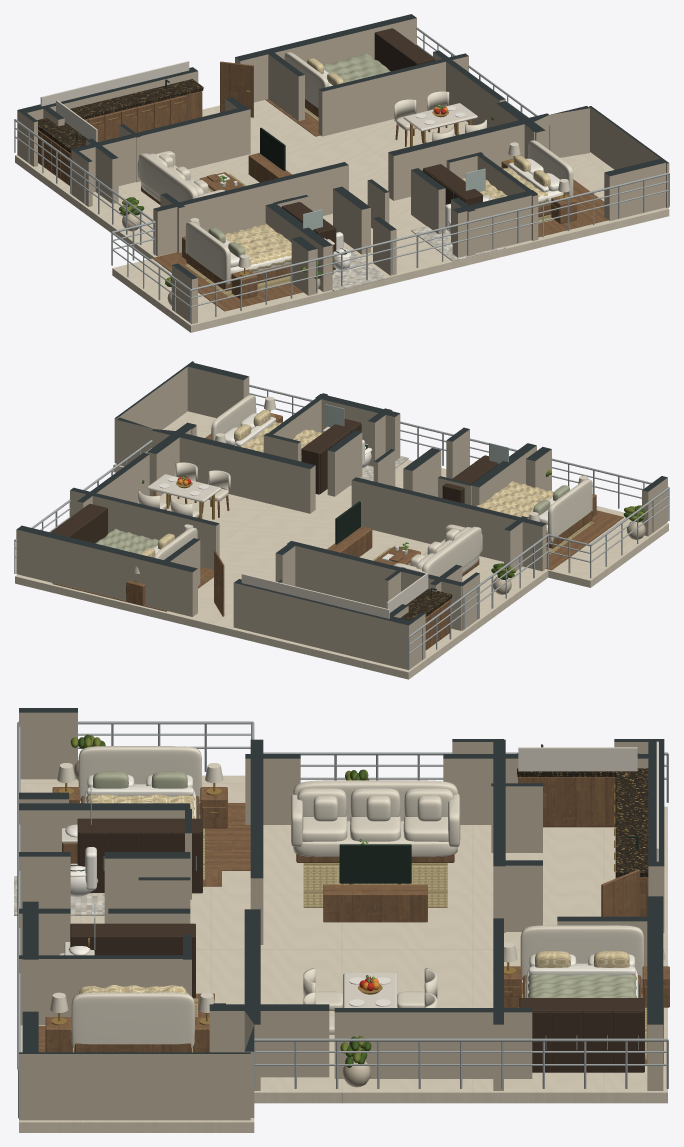
The picture shows the model from 3 angles, top to bottom: view 1: azimuth 30°, elevation 25°; view 2: azimuth 150°, elevation 25°; view 3: azimuth 270°, elevation 25°; orthographic projection. The views are drawn at different scales.
Parts seen in each view (by area): view 1: Source-traced internal and perimeter walls • Wall, Continuous apartment foundation, Soft jacquard duvet with folds.001, Padded headboard.001, Full bedroom wood flooring.001, Deep green kitchen stone, Fitted dark wardrobe.002, Sofa back, Backsplash, Oak entrance door, Balcony top rail.001, Full bedroom wood flooring (+20 smaller); view 2: Source-traced internal and perimeter walls • Wall, Continuous apartment foundation, Padded headboard.001, Sofa back, Soft jacquard duvet with folds.001, Backsplash, Fitted dark wardrobe.002, Full bedroom wood flooring.001, Fitted dark wardrobe, Padded headboard, Fitted dark wardrobe.001, Dining top (+9 smaller); view 3: Source-traced internal and perimeter walls • Wall, Continuous apartment foundation, Padded headboard, Walnut media console, Fitted dark wardrobe, Padded headboard.002, Padded headboard.001, Base cabinets.001, Deep green kitchen stone, Backsplash.001, Television, Living patterned carpet (+39 smaller).
Part boxes in pixels (left/top/right/bottom): Source-traced internal and perimeter walls • Wall: left=17, top=14, right=669, bottom=323; Continuous apartment foundation: left=15, top=100, right=669, bottom=332; Soft jacquard duvet with folds.001: left=224, top=223, right=291, bottom=271; Padded headboard.001: left=185, top=221, right=230, bottom=285; Full bedroom wood flooring.001: left=152, top=252, right=302, bottom=311; Deep green kitchen stone: left=70, top=79, right=203, bottom=118; Fitted dark wardrobe.002: left=374, top=28, right=434, bottom=71; Sofa back: left=138, top=153, right=198, bottom=202; Backsplash: left=40, top=61, right=189, bottom=106; Oak entrance door: left=220, top=61, right=253, bottom=117; Balcony top rail.001: left=191, top=172, right=669, bottom=290; Full bedroom wood flooring: left=538, top=179, right=607, bottom=237; Source-traced internal and perimeter walls • Wall: left=16, top=361, right=667, bottom=669; Continuous apartment foundation: left=15, top=411, right=668, bottom=679; Padded headboard.001: left=548, top=479, right=592, bottom=542; Sofa back: left=422, top=526, right=481, bottom=576; Soft jacquard duvet with folds.001: left=476, top=481, right=553, bottom=517; Backsplash: left=241, top=573, right=389, bottom=618; Fitted dark wardrobe.002: left=51, top=503, right=107, bottom=543; Full bedroom wood flooring.001: left=546, top=510, right=623, bottom=570; Fitted dark wardrobe: left=301, top=418, right=360, bottom=494; Padded headboard: left=211, top=394, right=256, bottom=440; Fitted dark wardrobe.001: left=443, top=455, right=498, bottom=503; Dining top: left=147, top=474, right=221, bottom=502; Source-traced internal and perimeter walls • Wall: left=19, top=708, right=664, bottom=1120; Continuous apartment foundation: left=19, top=775, right=667, bottom=1132; Padded headboard: left=71, top=992, right=194, bottom=1048; Walnut media console: left=323, top=884, right=427, bottom=922; Fitted dark wardrobe: left=70, top=923, right=195, bottom=997; Padded headboard.002: left=520, top=925, right=643, bottom=980; Padded headboard.001: left=78, top=746, right=201, bottom=801; Base cabinets.001: left=518, top=777, right=615, bottom=827; Deep green kitchen stone: left=615, top=768, right=648, bottom=874; Backsplash.001: left=518, top=747, right=637, bottom=771; Television: left=339, top=844, right=411, bottom=883; Living patterned carpet: left=303, top=863, right=447, bottom=907.
Size of the model in its own units: 12.58 by 1.7 by 10.03.
Materials: 26 (6 with a texture image).
